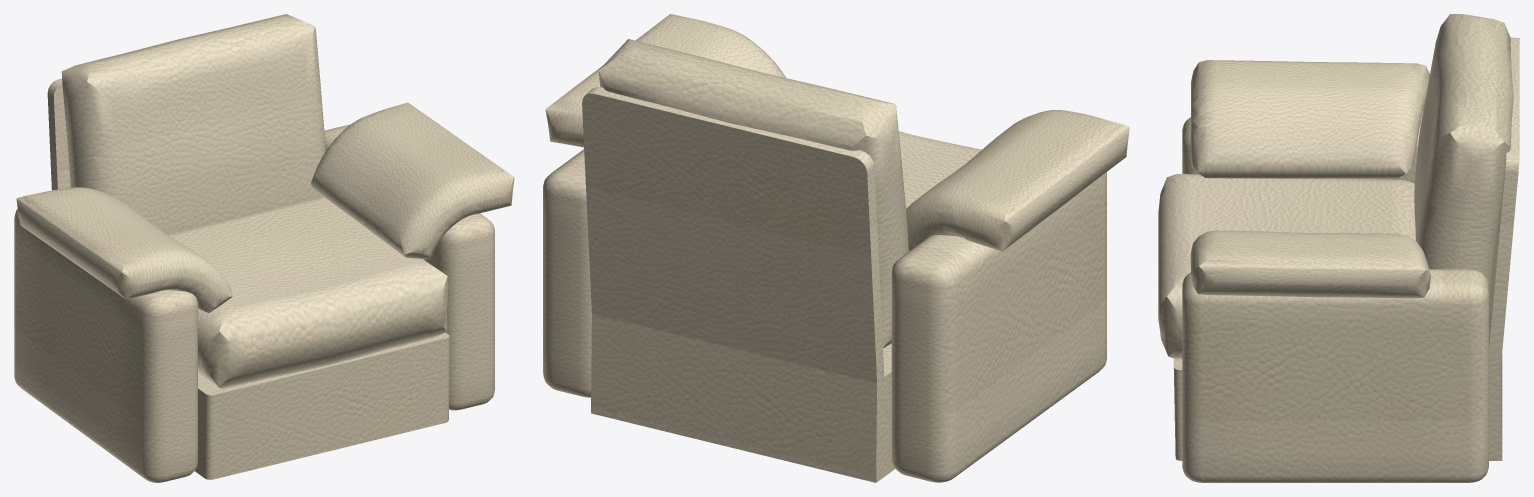
Rendered from sofap.obj.
The picture shows the model from 3 angles, left to right: view 1: azimuth 30°, elevation 25°; view 2: azimuth 150°, elevation 25°; view 3: azimuth 270°, elevation 25°; orthographic projection. The views are drawn at different scales.
Visible parts, largest first — view 1: sofap; view 2: sofap; view 3: sofap.
Boxes of the visible parts, bbox=[...] form: sofap: bbox=[14, 14, 514, 482]; sofap: bbox=[543, 14, 1129, 482]; sofap: bbox=[1158, 14, 1519, 482].
Bounding box in the file's own units: 4.43 × 3.27 × 3.26.
Materials: 5 (5 with a texture image).
